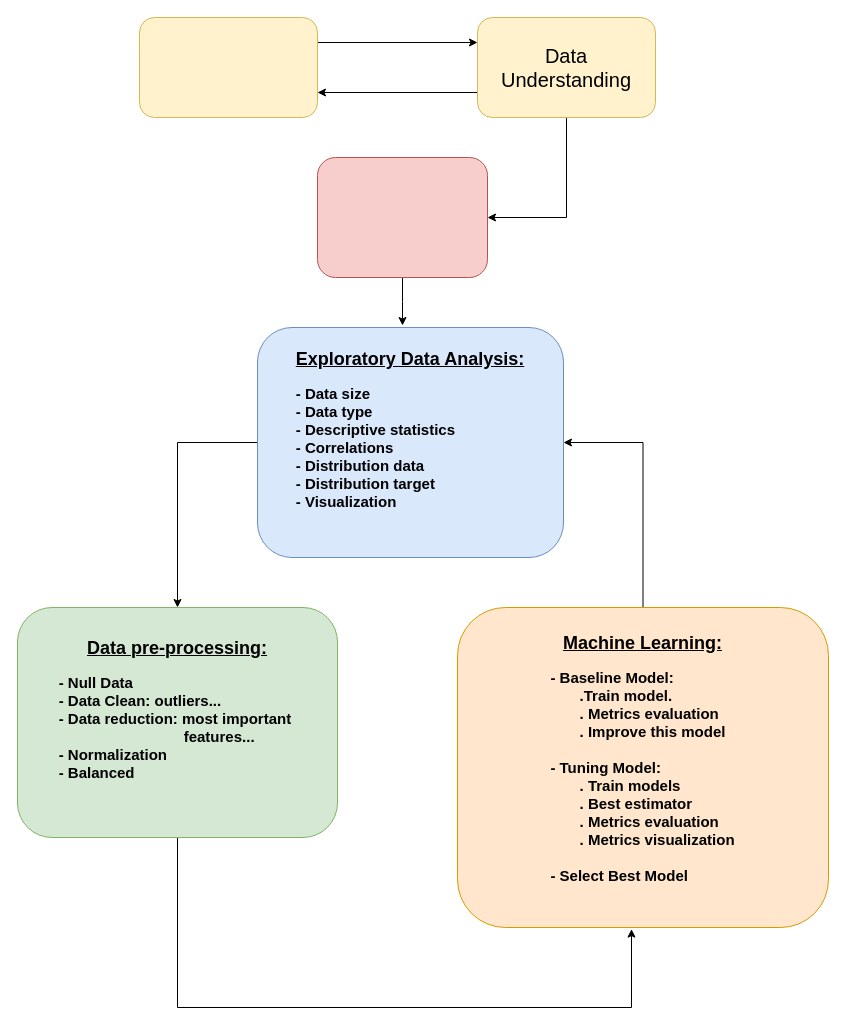
Some shapes in this 846 by 1033 pixel diagram are drawn without their labels. Each missing label, with the centre of its shape:
"Business Understanding" belongs at [228,67].
"Import Data: Dataset preparation" belongs at [402,217].
